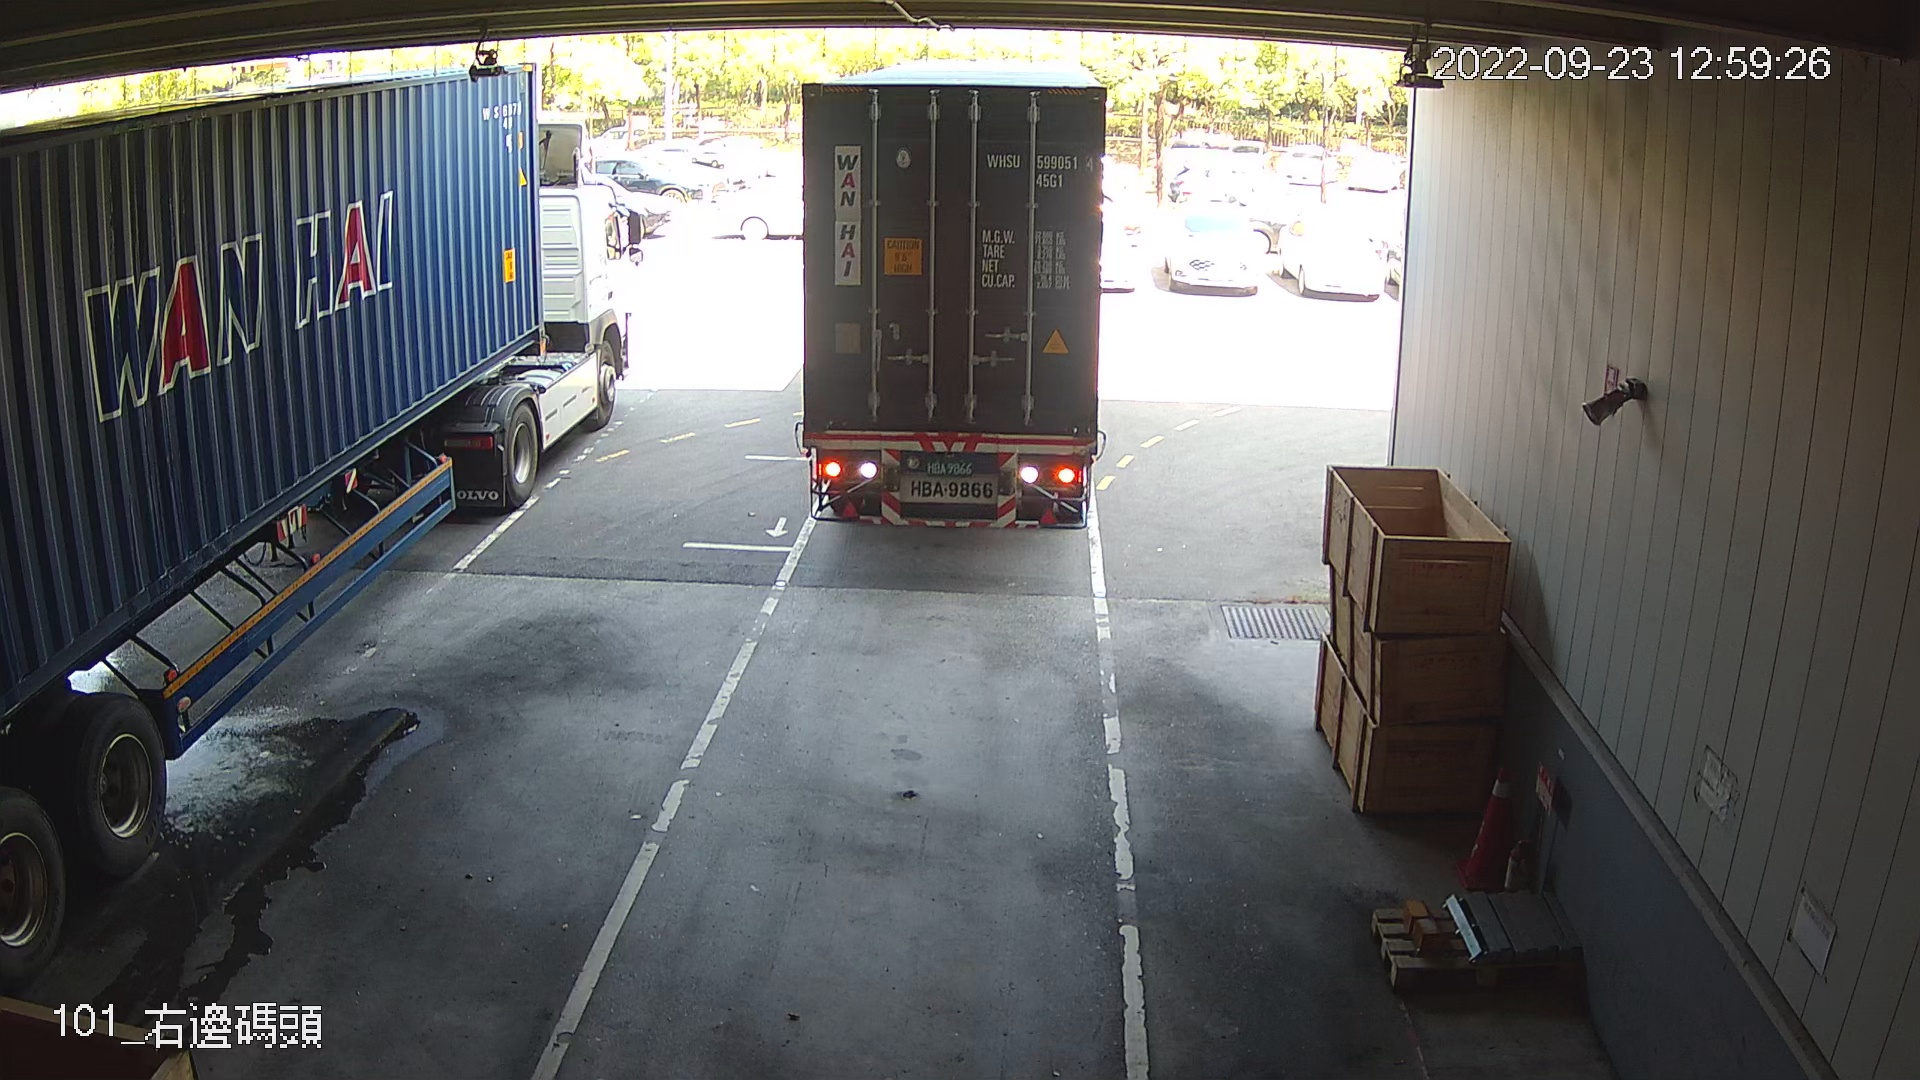container: (982, 142, 1098, 196)
